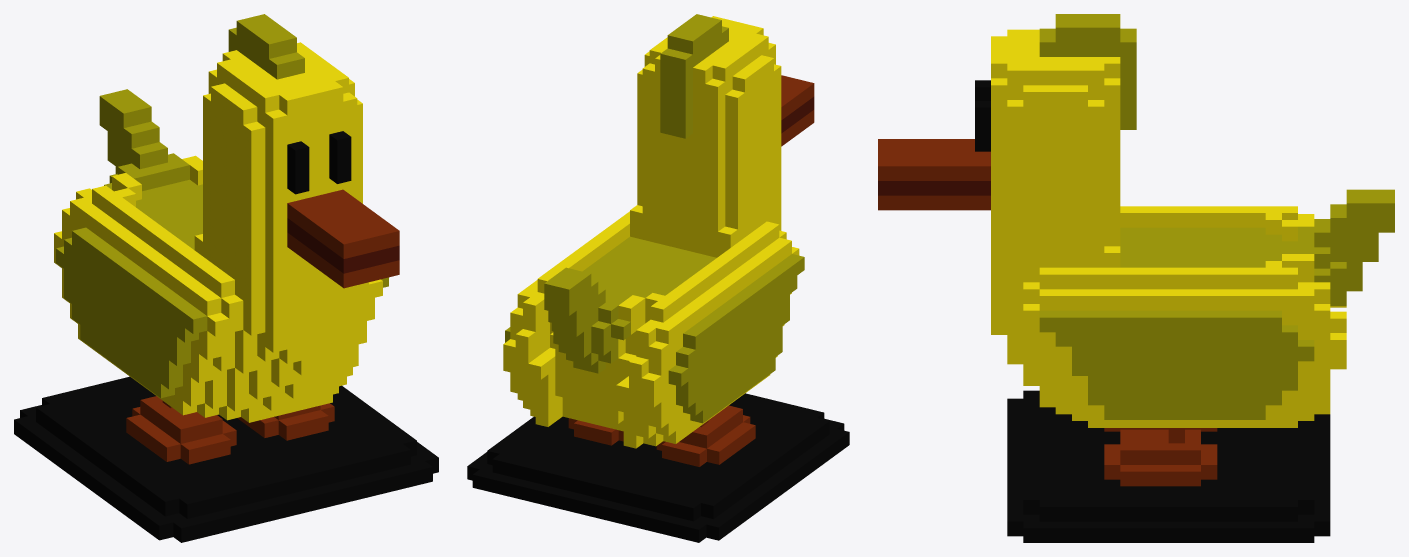
Rendered from asset.glb.
The picture shows the model from 3 angles, left to right: view 1: azimuth 30°, elevation 25°; view 2: azimuth 150°, elevation 25°; view 3: azimuth 270°, elevation 25°; orthographic projection. The views are drawn at different scales.
Visible parts, largest first — view 1: Cube.2741; view 2: Cube.2741; view 3: Cube.2741.
Part boxes in pixels (<box>): Cube.2741: <box>14,14,438,542</box>; Cube.2741: <box>467,14,849,542</box>; Cube.2741: <box>878,14,1394,542</box>.
Size of the model in its own units: 20 by 31 by 32.
